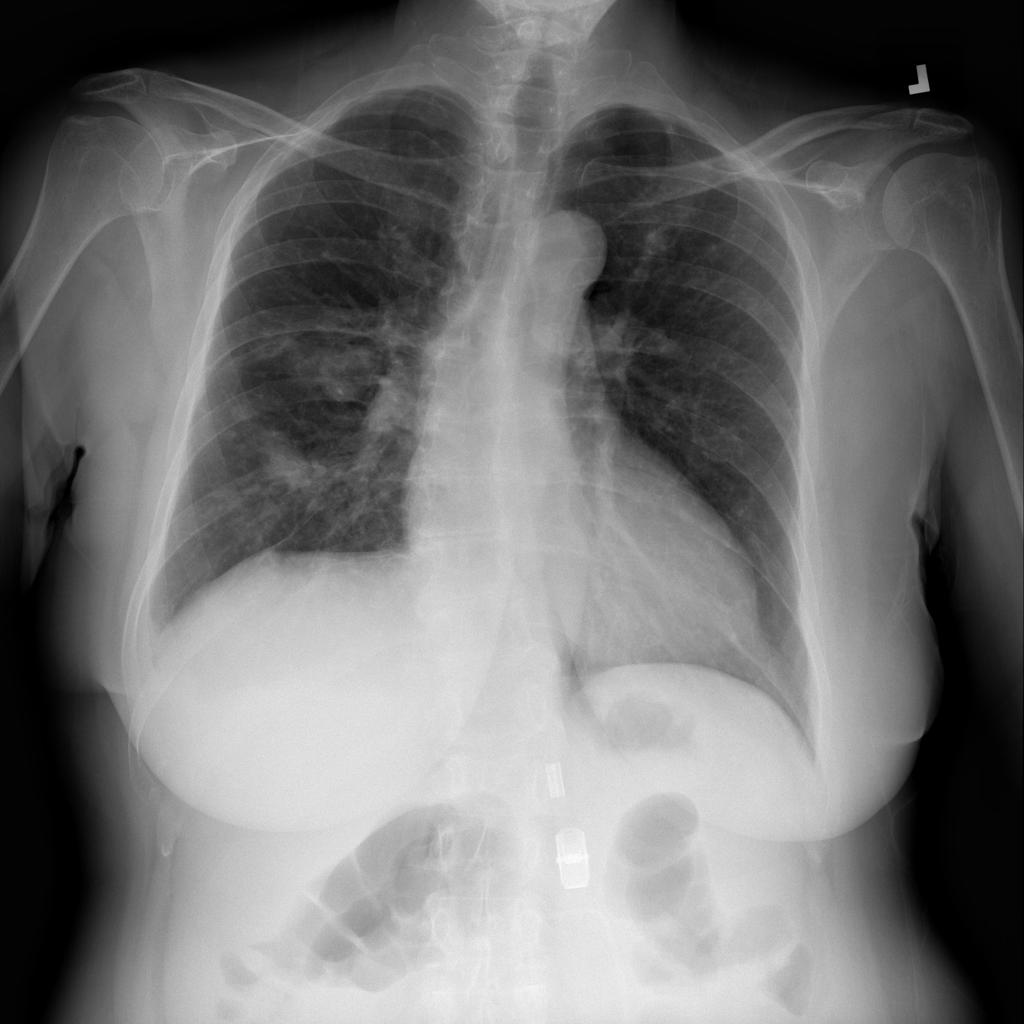nodule: (254, 432, 336, 509), (303, 336, 386, 409)
